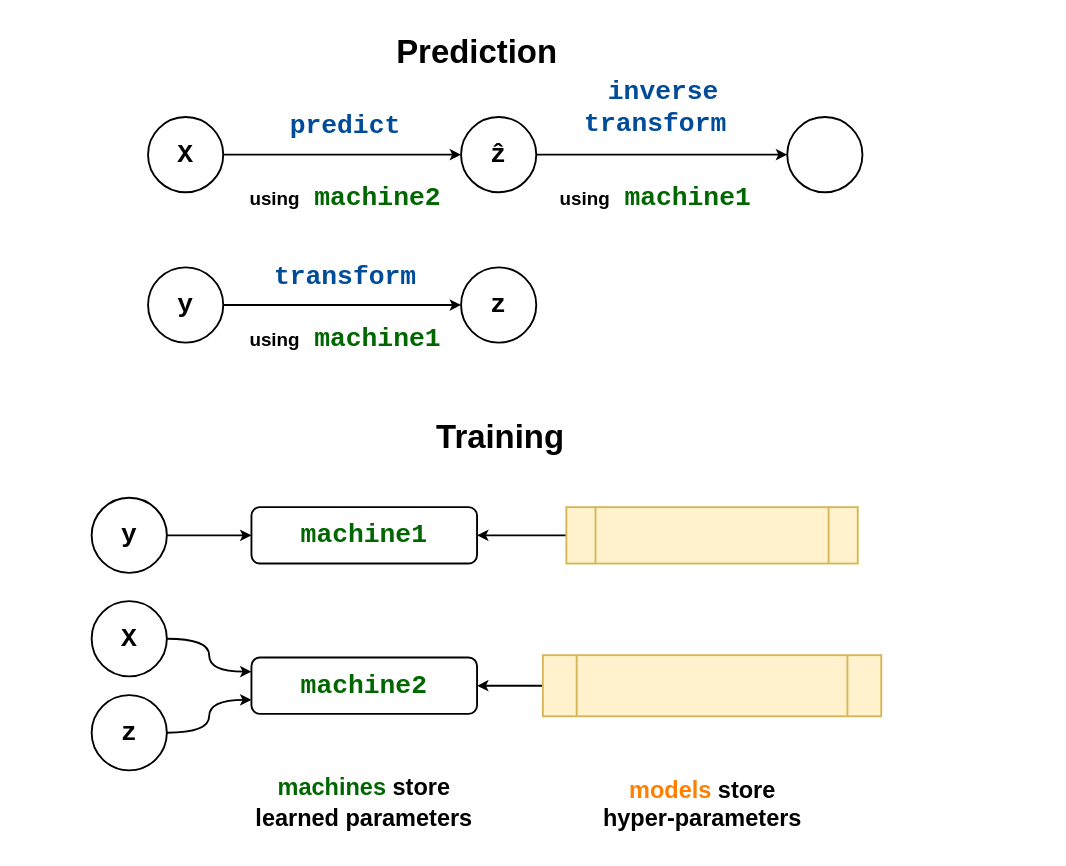
Image size: 1066x866. Some labels were removed from this diagram. Each missing label, with the box of its shape:
box_cox: (565, 506, 858, 564)
ridge regressor: (541, 654, 882, 717)
ŷ: (786, 116, 863, 193)
